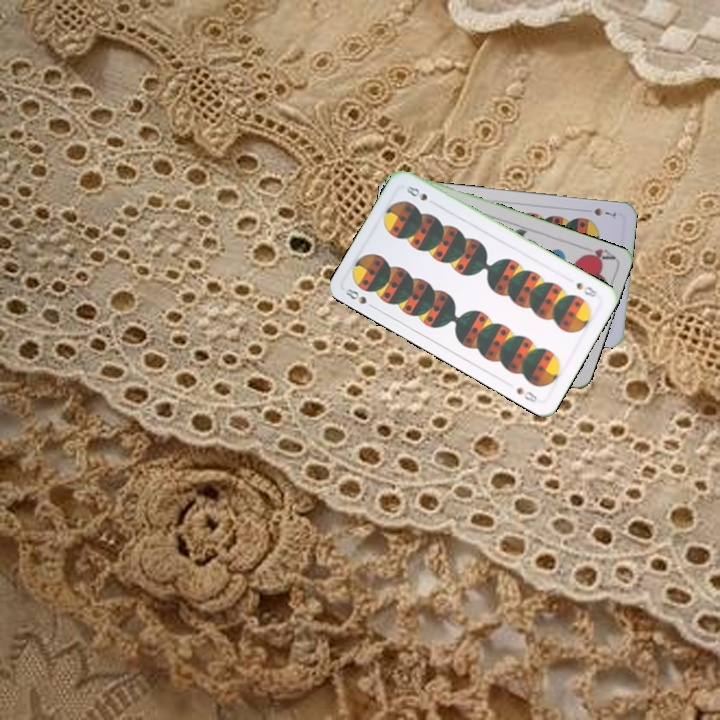HA: (577, 242, 617, 264)
S7: (590, 204, 619, 219)
S8: (341, 284, 378, 312), (572, 278, 600, 300)
